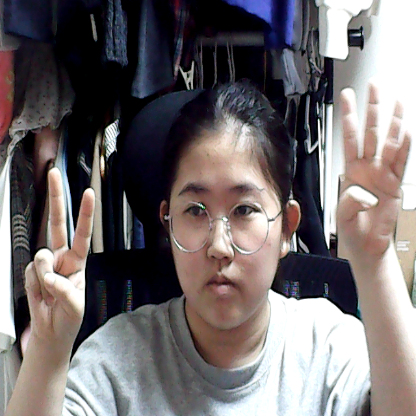Finger_2: (16, 162, 110, 358)
Finger_4: (326, 80, 416, 270)
